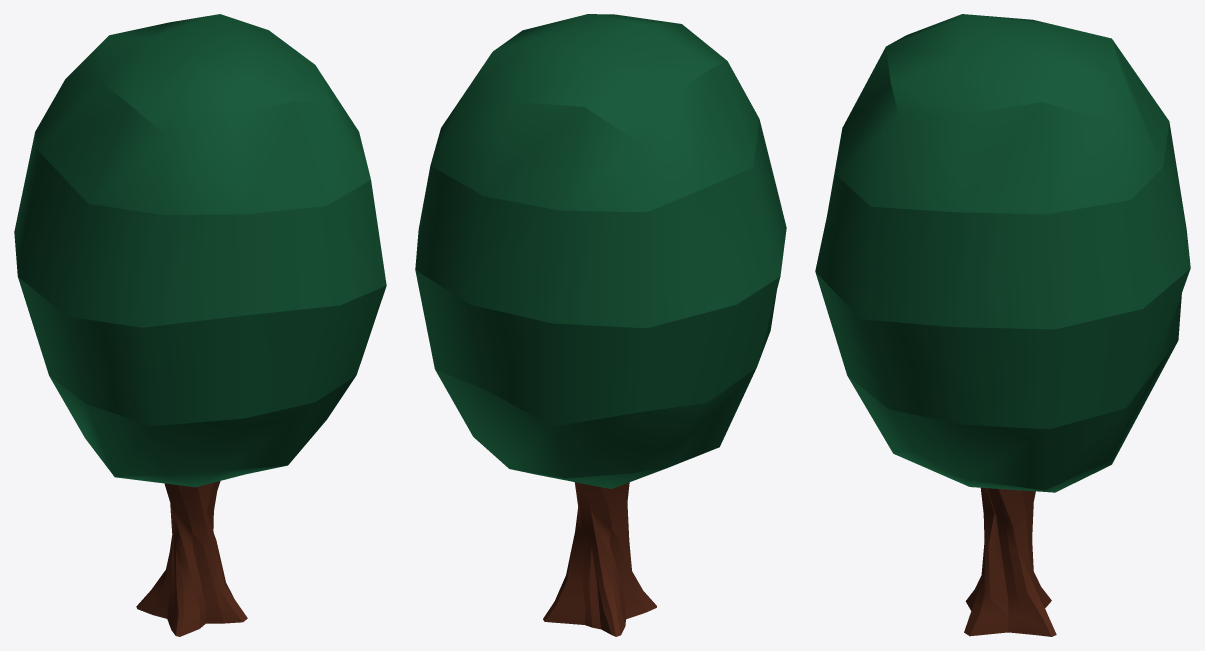
File: Tree_2_Low.fbx
3 views of the same model, side by side, from view 1: azimuth 30°, elevation 25°; view 2: azimuth 150°, elevation 25°; view 3: azimuth 270°, elevation 25° (orthographic). The views are drawn at different scales.
Visible parts, largest first — view 1: Tree_2_Low; view 2: Tree_2_Low; view 3: Tree_2_Low.
Boxes of the visible parts, x1=… form: Tree_2_Low: x1=14, y1=14, x2=386, y2=636; Tree_2_Low: x1=415, y1=14, x2=786, y2=636; Tree_2_Low: x1=815, y1=14, x2=1190, y2=636.
Size of the model in its own units: 101 by 178 by 102.
